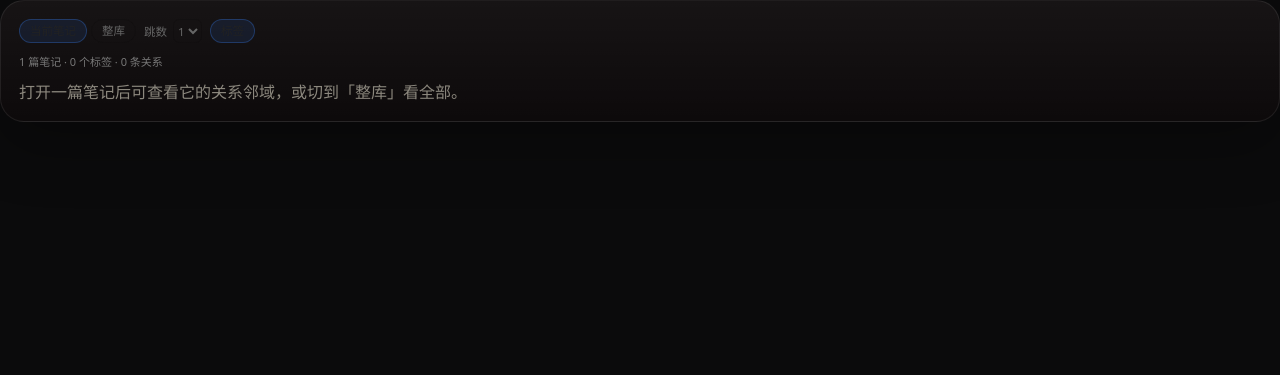
NotesGraphPanel › switches to the whole vault, which does not need an active note
Click the button "整库": (114, 31) [91,19,136,43]
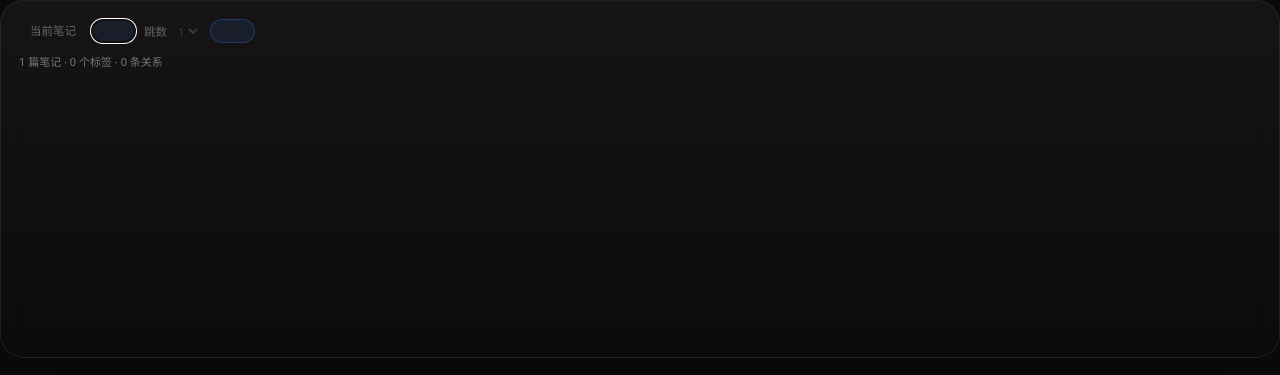
Check: the text "打开一篇笔记后可查看它的关系邻域，或切到「整库」看全部。" is gone
